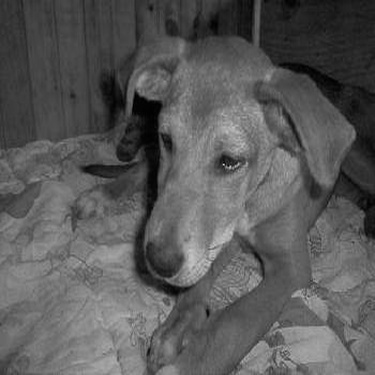dog: (66, 21, 372, 373)
